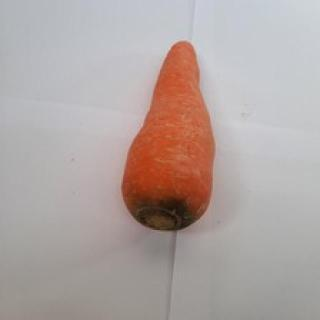carrot: (120, 39, 217, 231)
